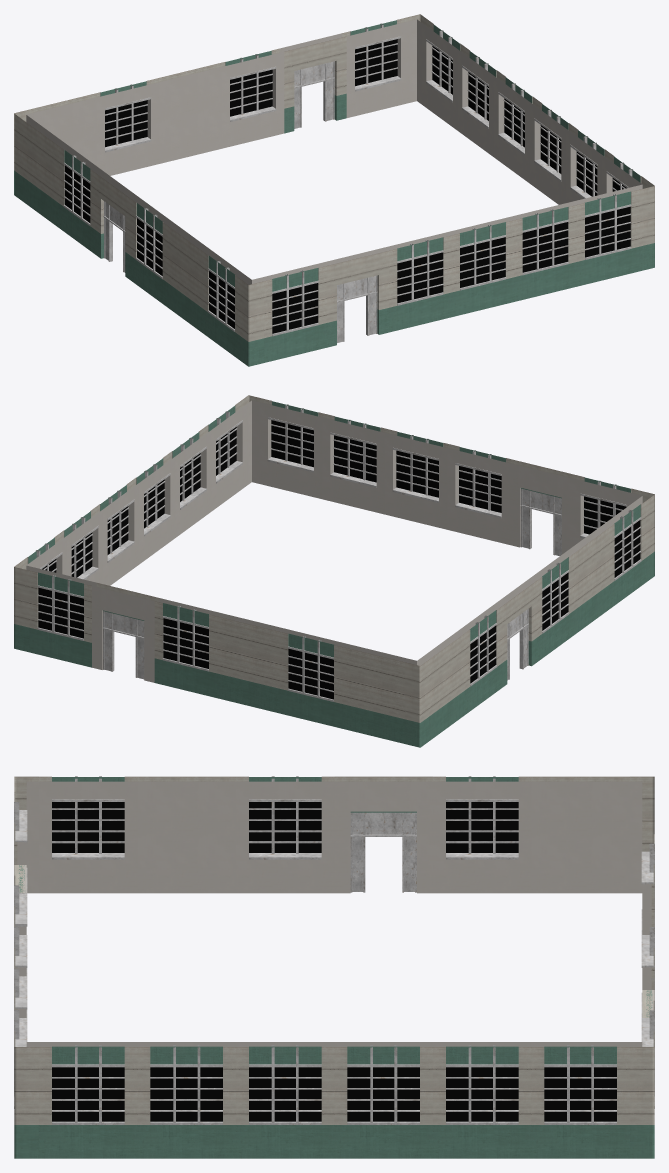
The model's file is BuildingD_Bottom_VarA.fbx.
3 renders of one model, top to bottom at view 1: azimuth 30°, elevation 25°; view 2: azimuth 150°, elevation 25°; view 3: azimuth 270°, elevation 25°, orthographic. The views are drawn at different scales.
Parts seen in each view (by area): view 1: BuildingD_Bottom_VarA; view 2: BuildingD_Bottom_VarA; view 3: BuildingD_Bottom_VarA.
Boxes of the visible parts, x1=… form: BuildingD_Bottom_VarA: x1=14, y1=14, x2=654, y2=366; BuildingD_Bottom_VarA: x1=14, y1=395, x2=654, y2=747; BuildingD_Bottom_VarA: x1=14, y1=776, x2=654, y2=1158.
Bounding box in the file's own units: 2604 × 500 × 2604.
